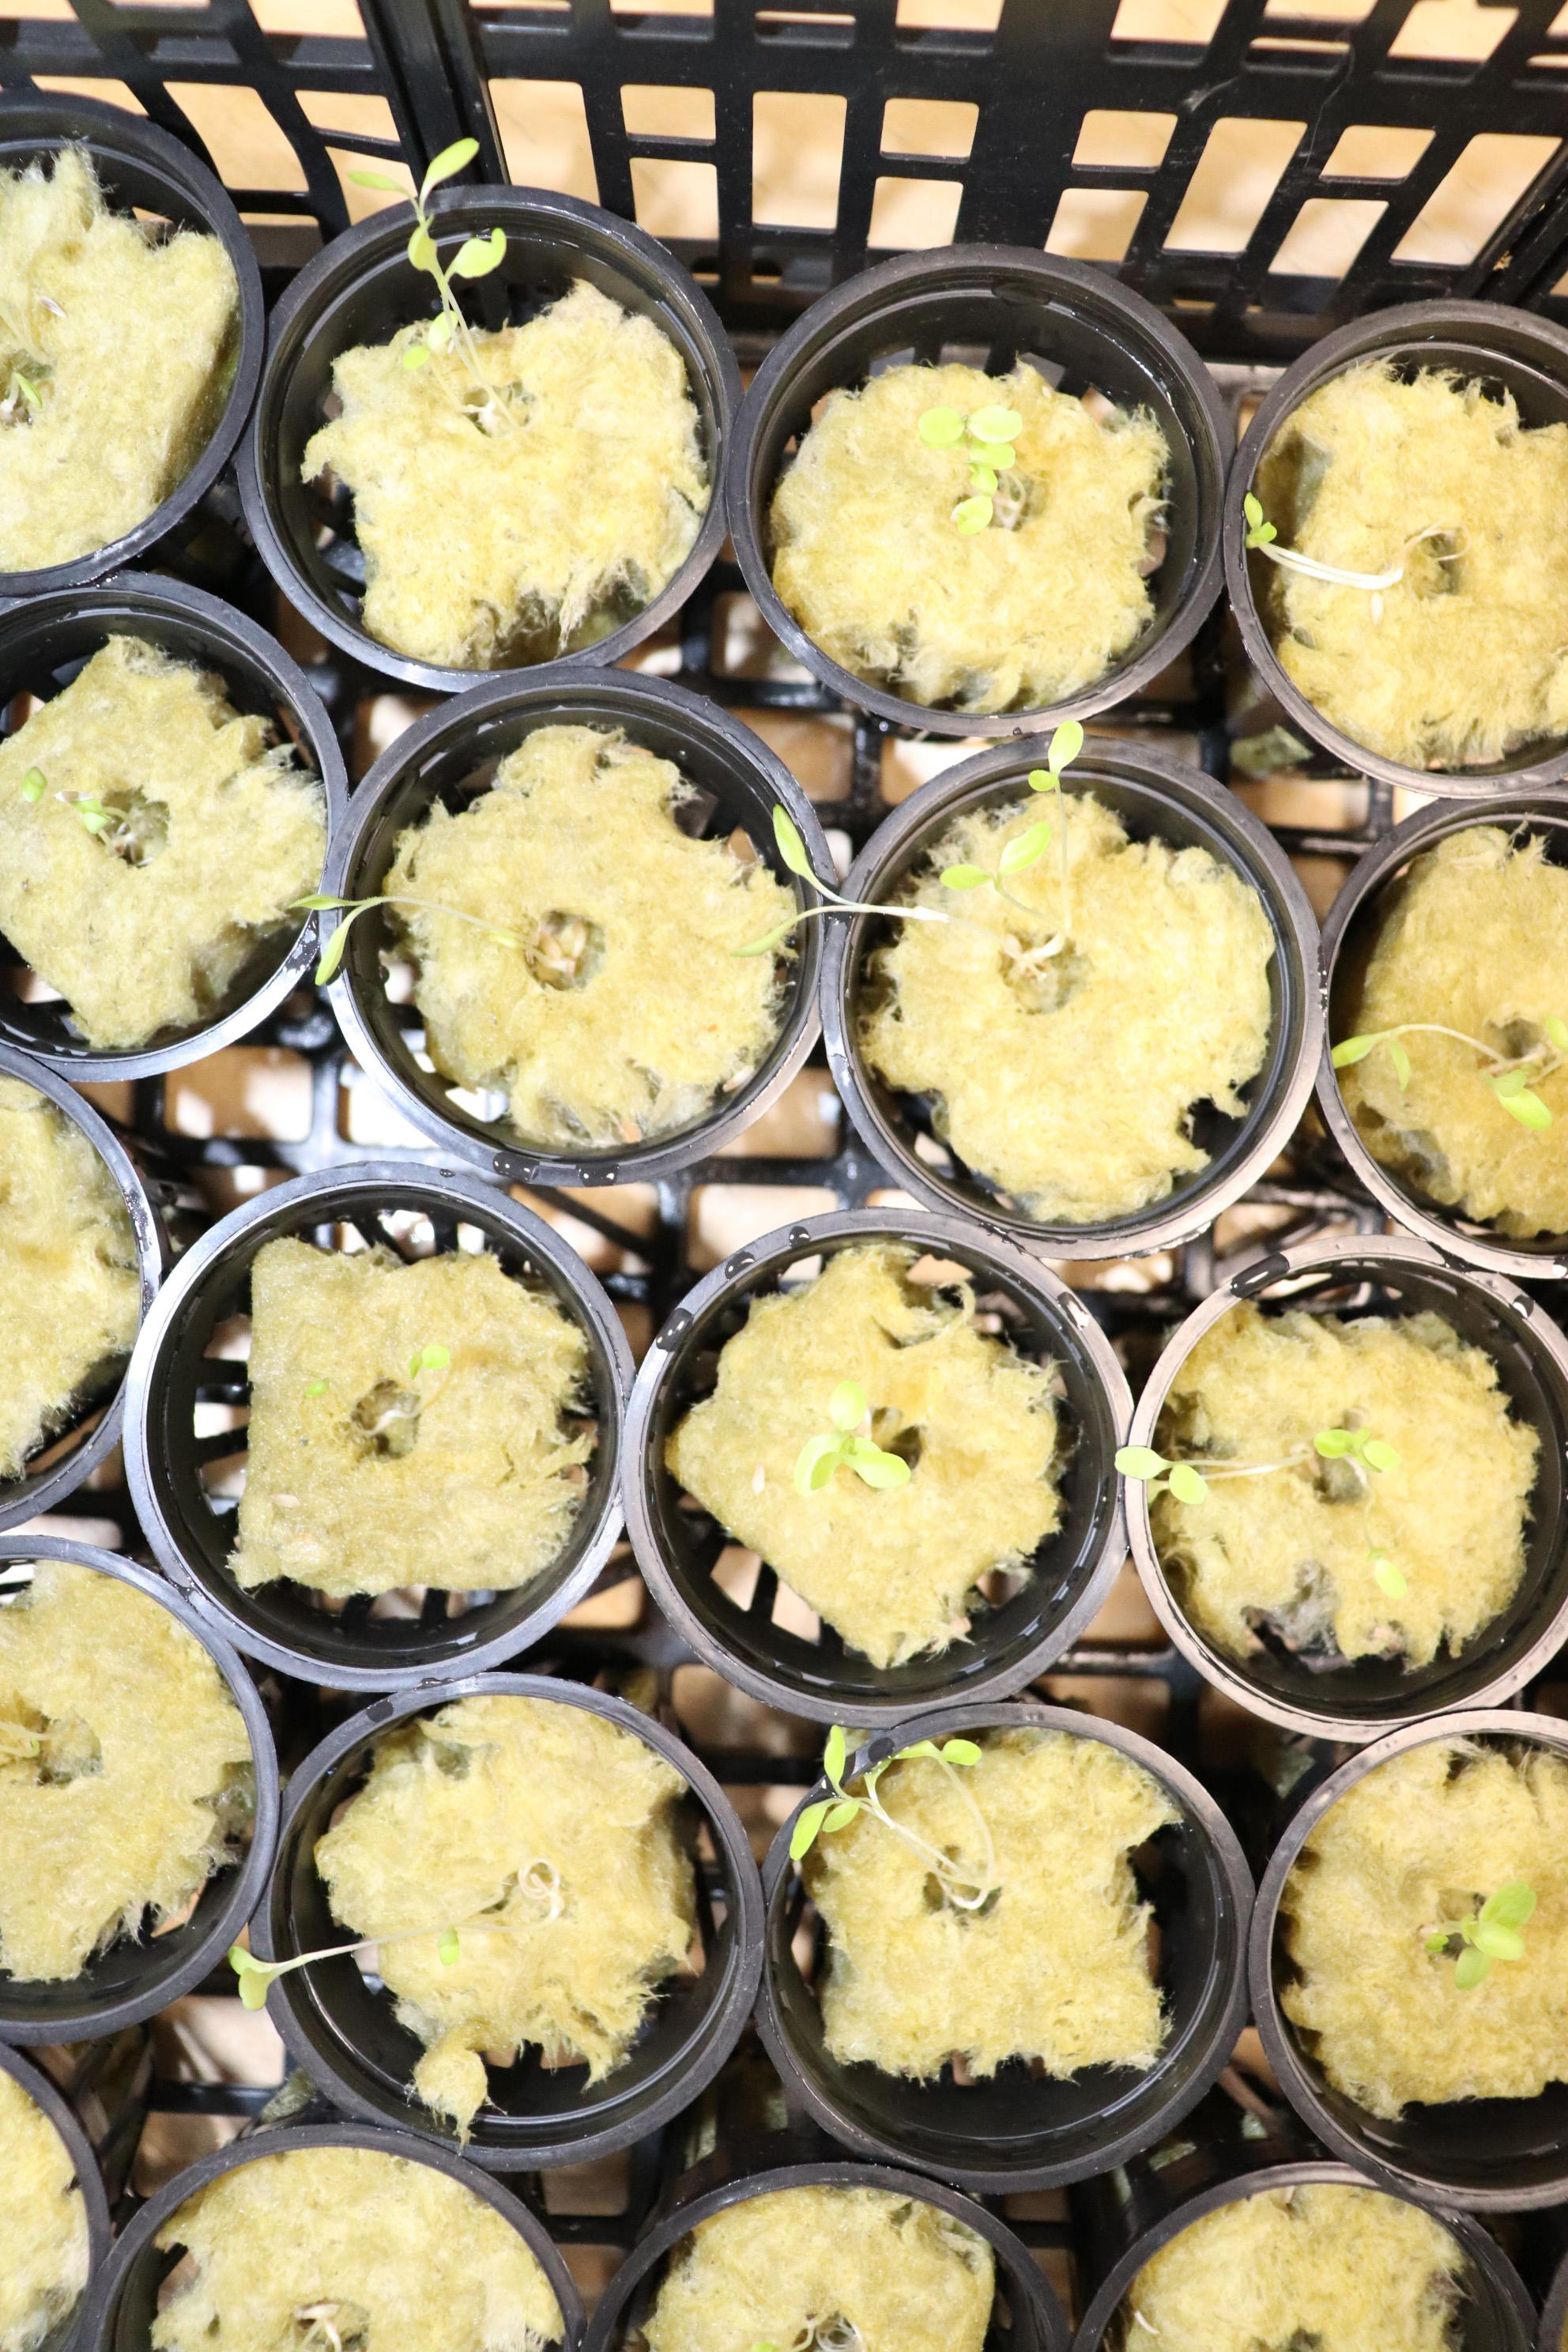GERMINATED: (837, 1752, 1190, 2074), (1195, 1323, 1517, 1664), (366, 1706, 675, 2054), (339, 297, 688, 604), (922, 829, 1220, 1169), (0, 642, 299, 973), (450, 768, 759, 1083), (12, 1608, 247, 1984), (243, 1272, 560, 1549), (1309, 392, 1568, 723), (742, 1274, 1025, 1573), (178, 2130, 541, 2336), (844, 376, 1116, 633), (1333, 1792, 1554, 2074), (1365, 863, 1550, 1167), (653, 2196, 971, 2352), (7, 2103, 82, 2326)
